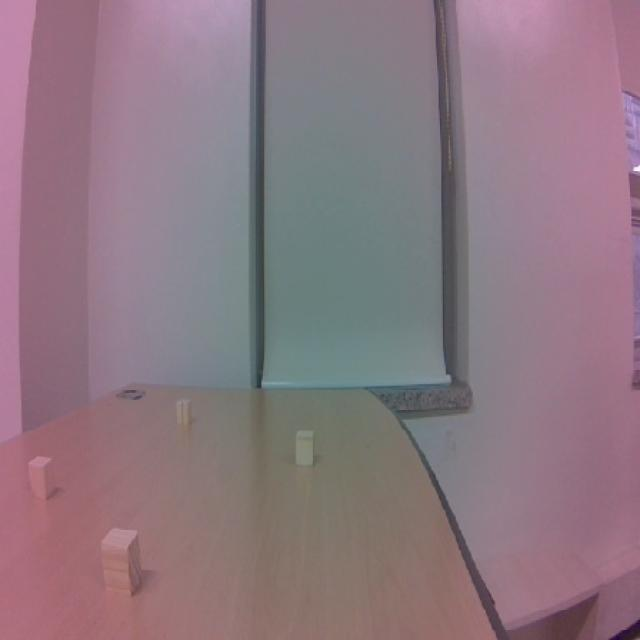obstacle: (89, 517, 157, 617), (15, 439, 70, 510), (287, 426, 323, 473), (169, 394, 203, 434)
